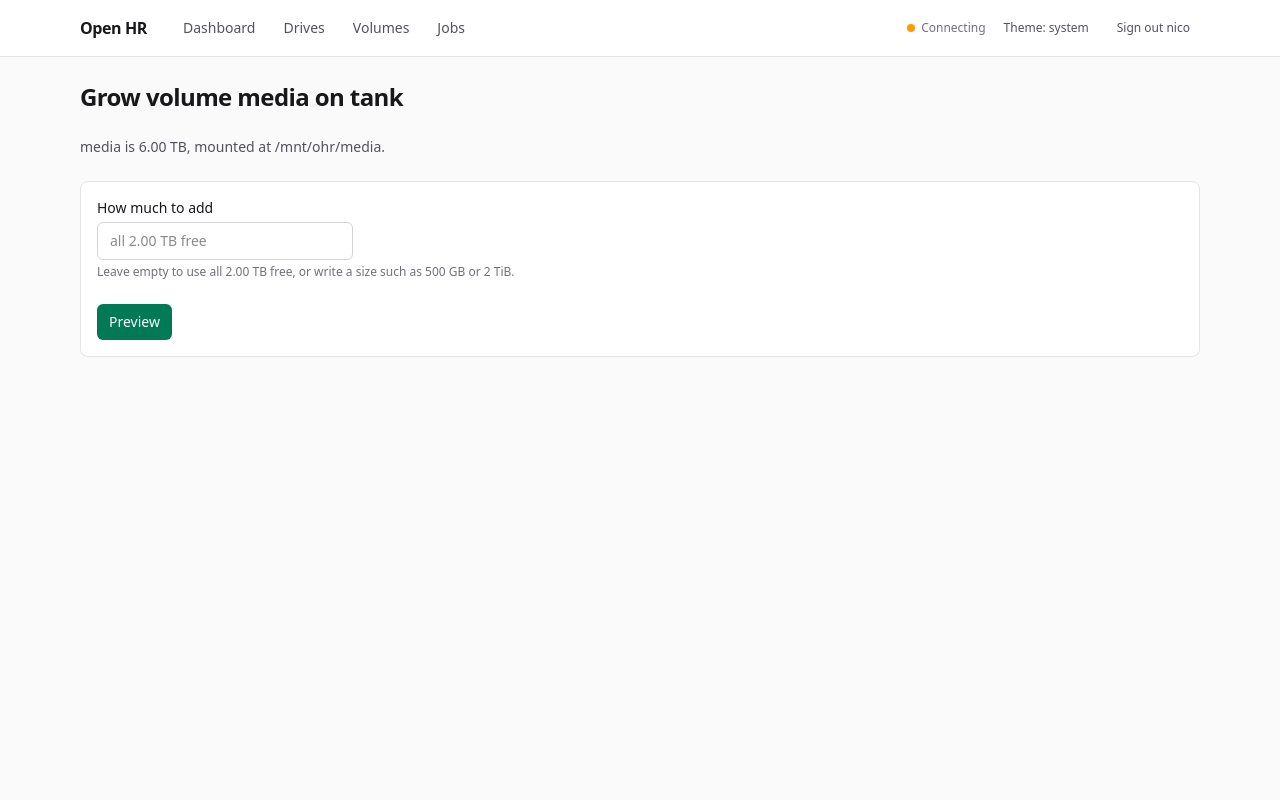
it: grow volume › asks for a given amount, and says what is wrong with one it cannot read
Type "lots" into the field labelled "How much to add".
click(225, 241); type("lots")  # box [97,222,353,260]
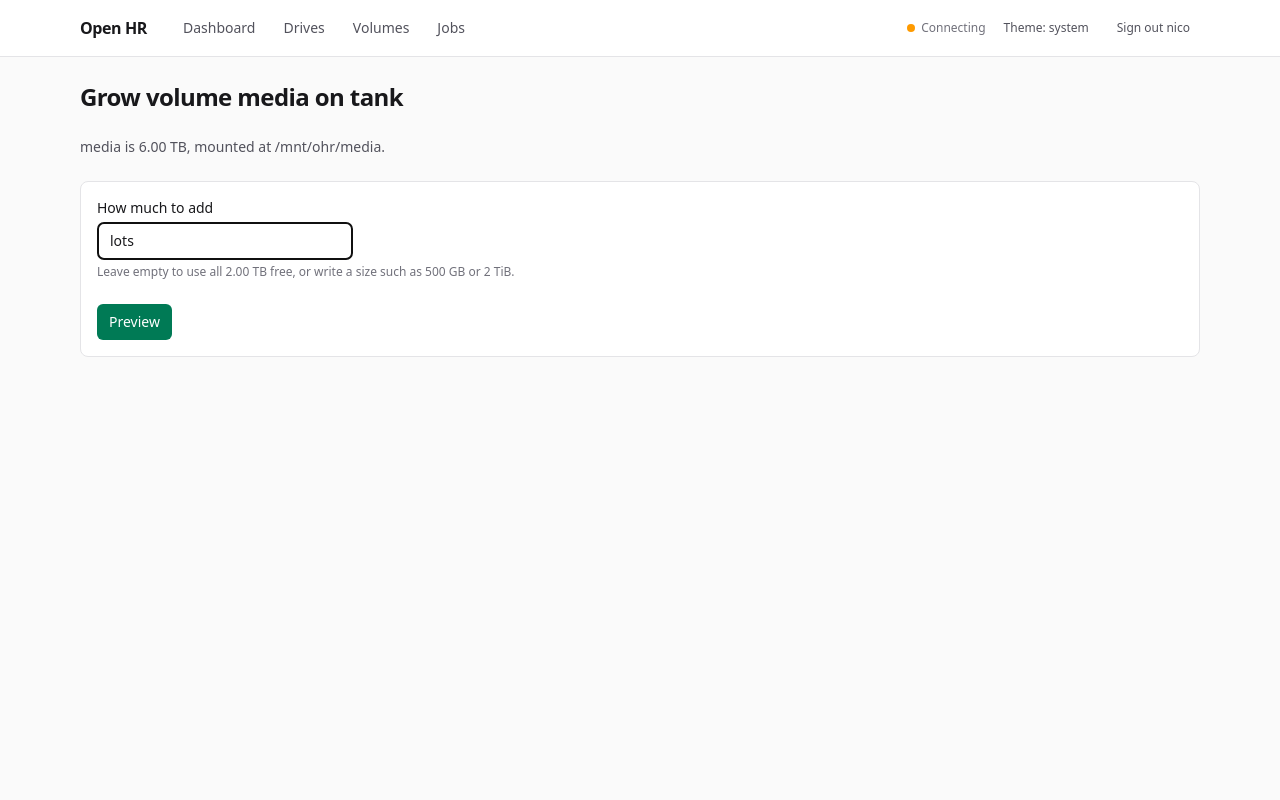
Click the button "Preview".
click(134, 322)  # box [97,304,172,340]
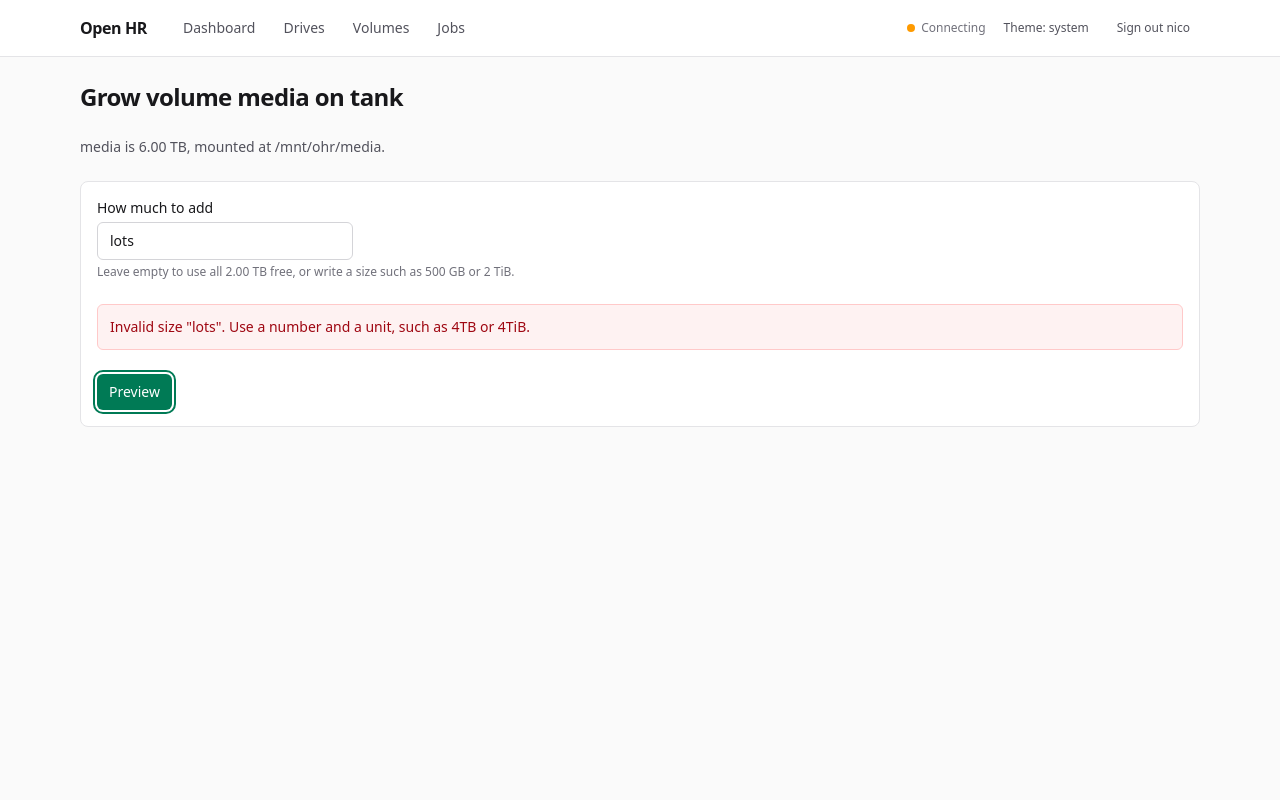
Expected: the message "Invalid size \"lots\". Use a number and a unit, such as 4TB or 4TiB." is shown, [97,304,1183,350]
Replace the text in the field labelled "How much to add" with "100 GB" at coordinates (225, 241), box [97,222,353,260]
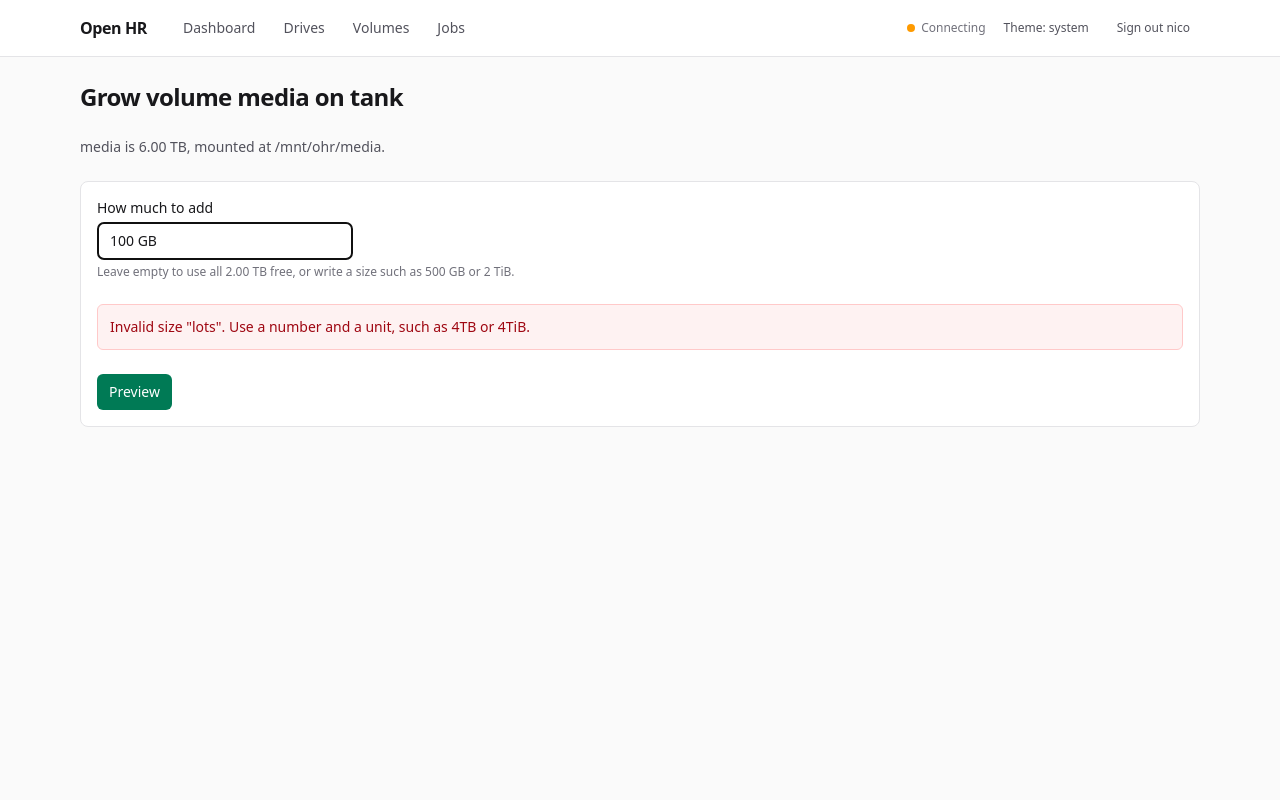
Click the button "Preview".
click(134, 392)  # box [97,374,172,410]
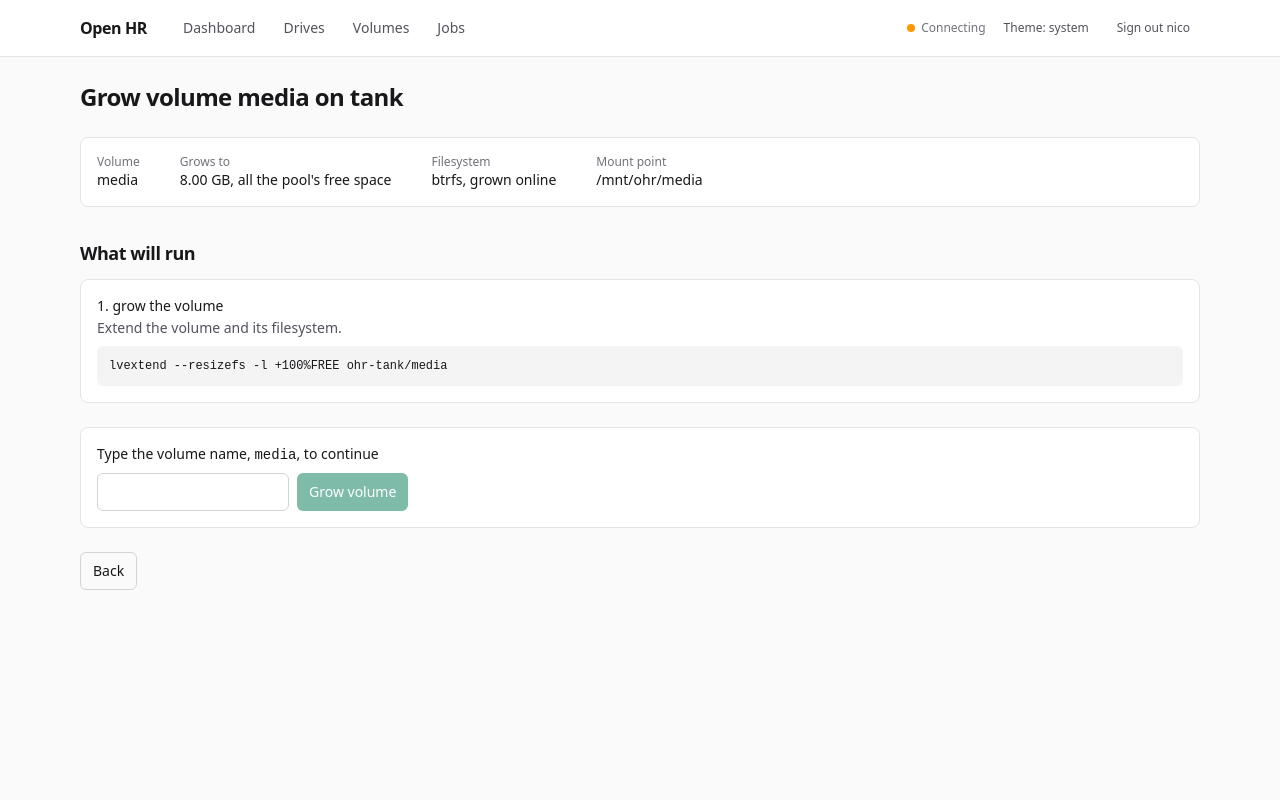
Expected: the text "8.00 GB, all the pool's free space" is shown, [180,170,391,190]
